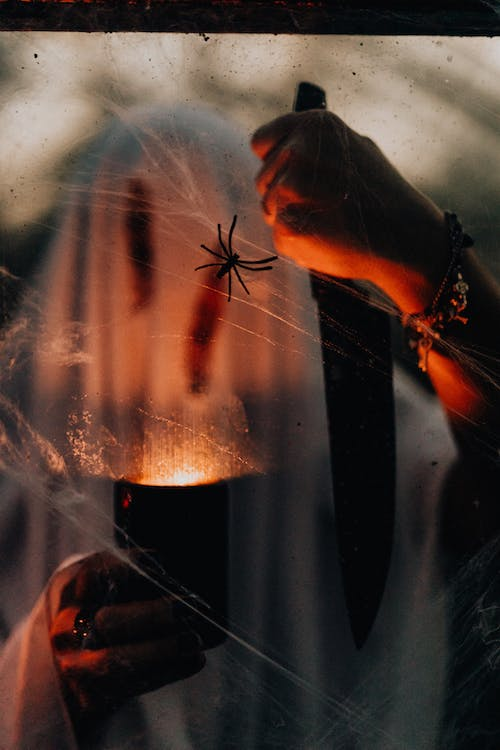knife: (305, 266, 399, 655)
